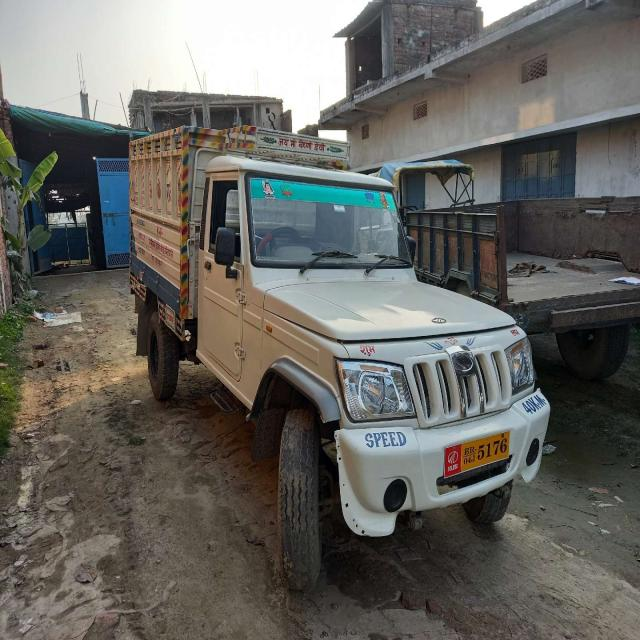light_vehicle: (133, 135, 544, 499)
